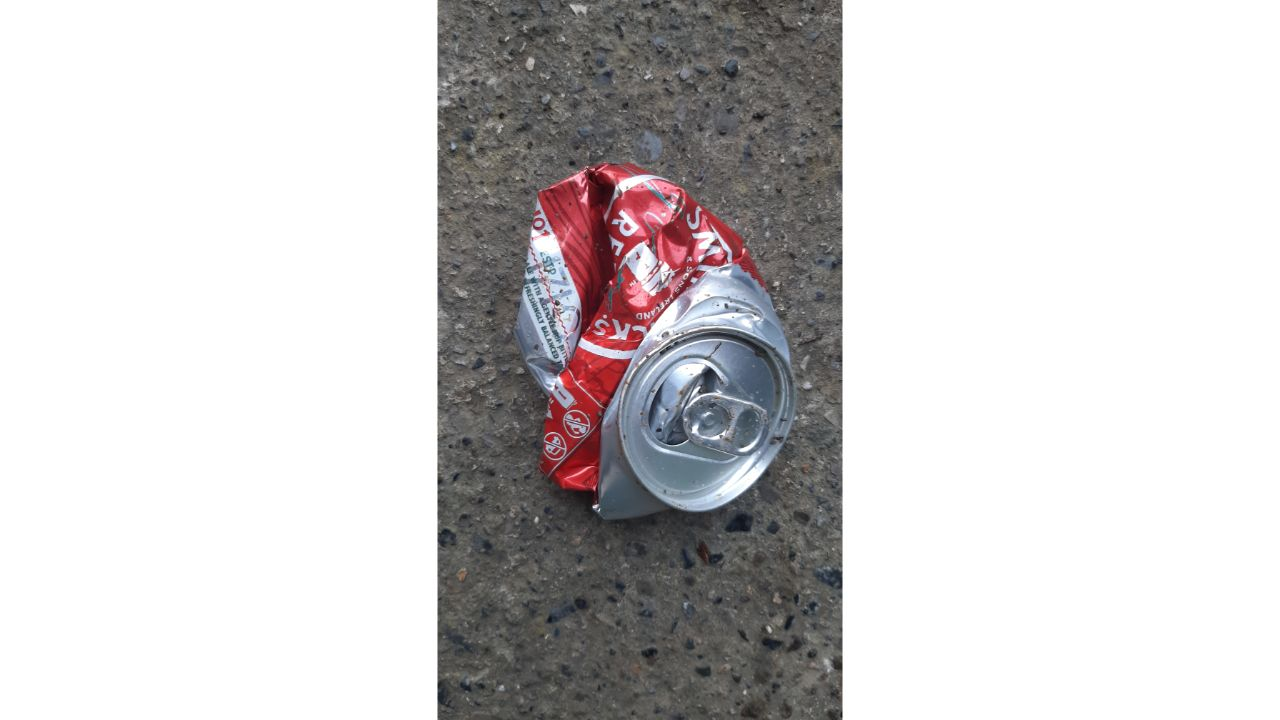Can: (515, 162, 798, 522)
